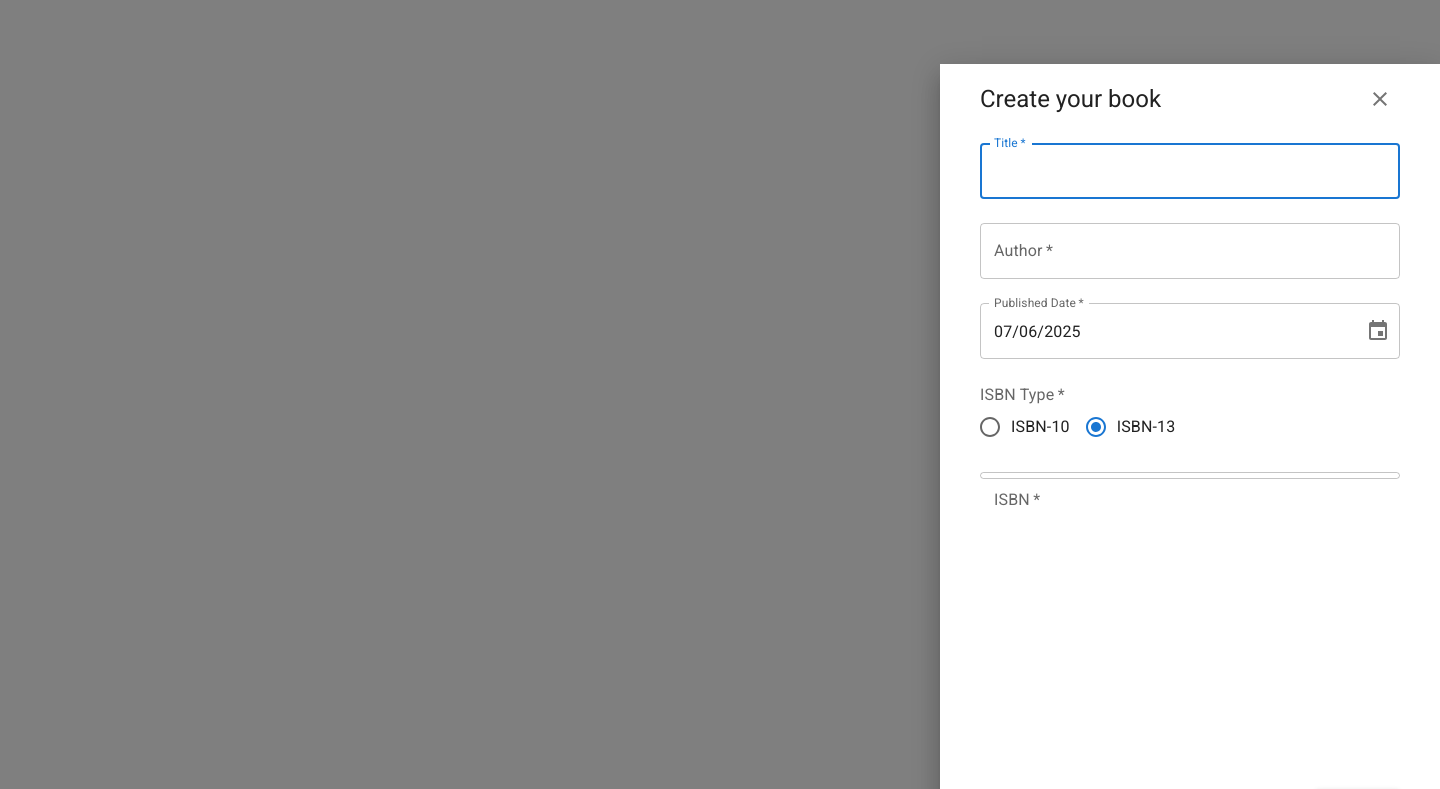
Scenario: AddBook › shows validation error for Elon Musks children
Type "A1" into the field with test id "author-input". click: (1190, 251)
box: [980,223,1400,279]
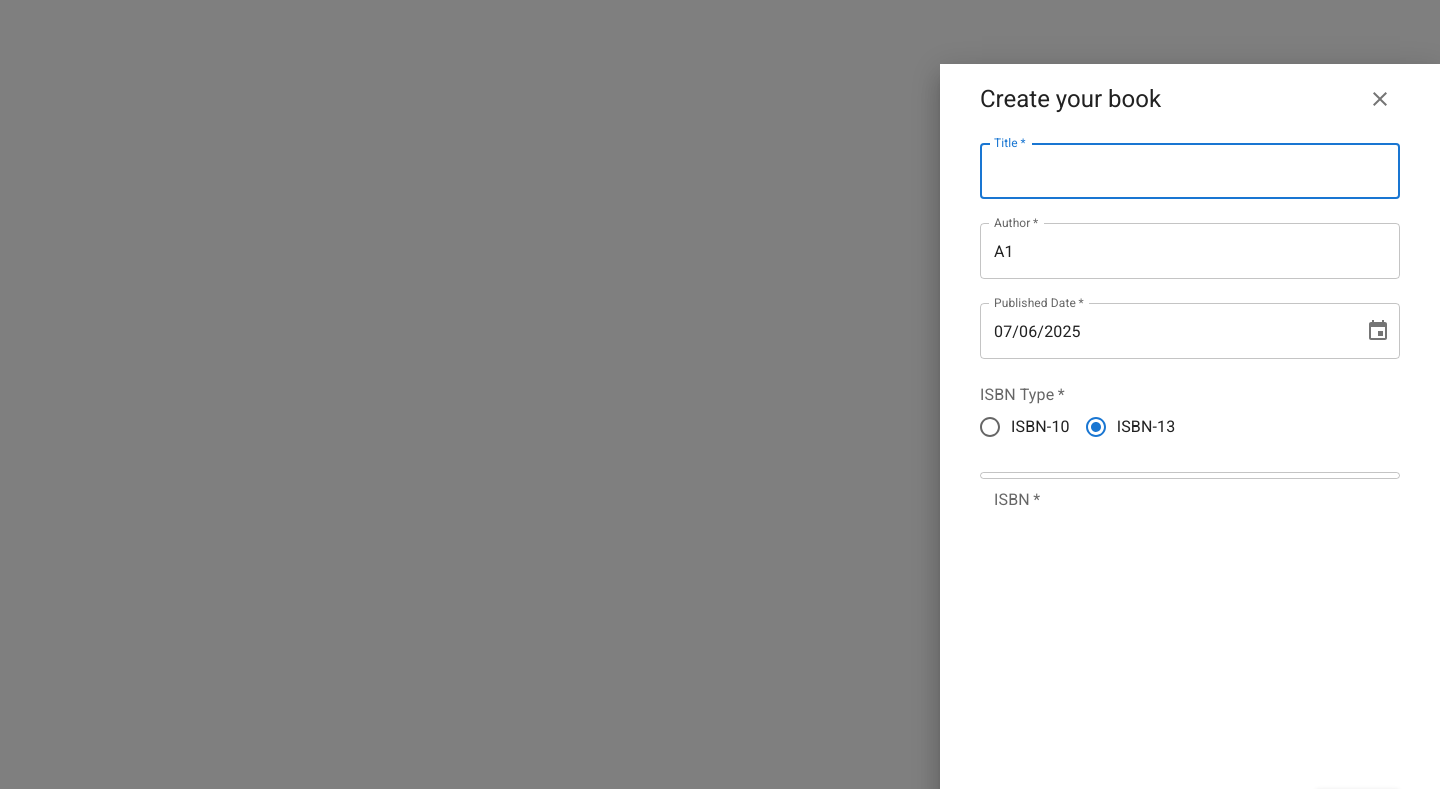
Leave the field with test id "author-input", box [980,223,1400,279]
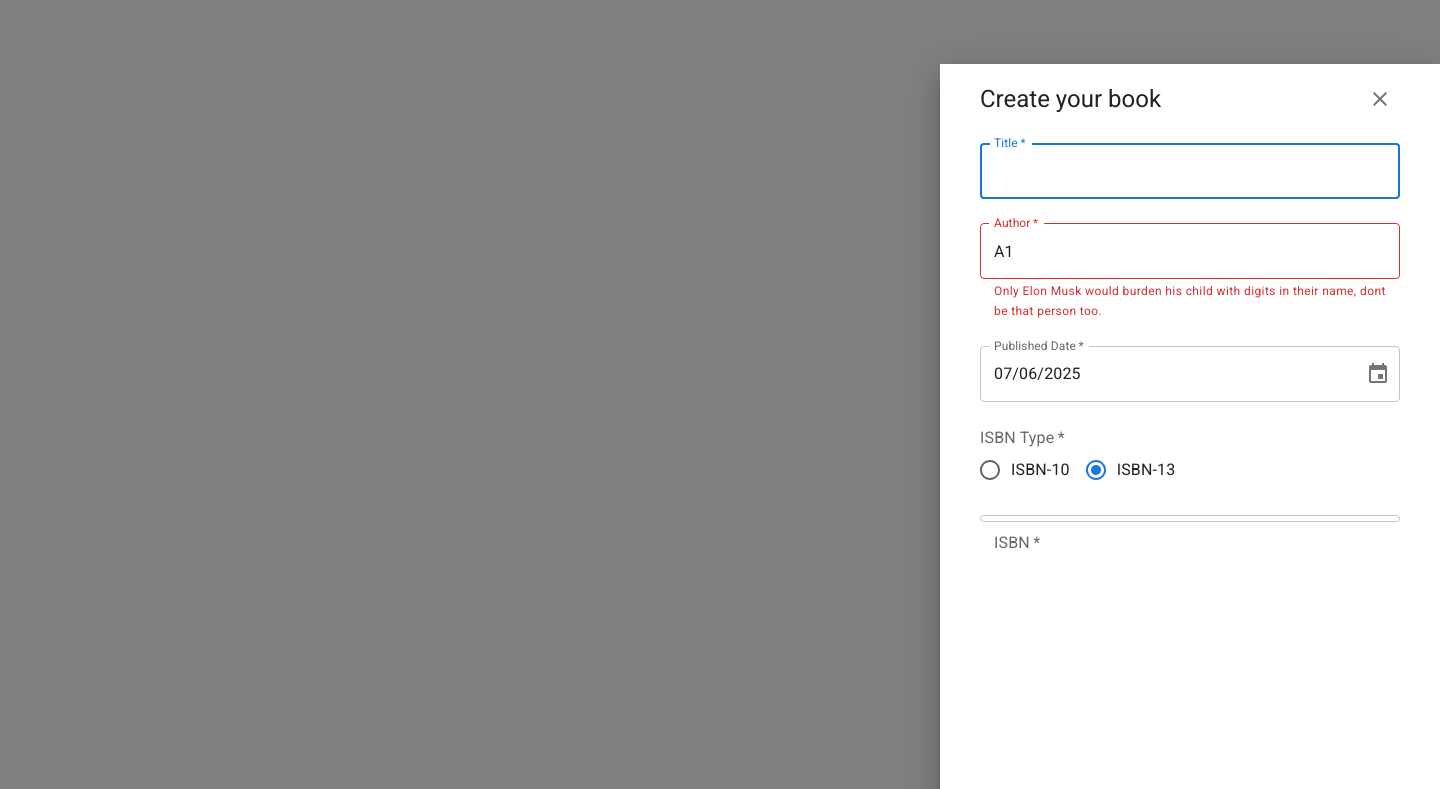
Expected: the text "Only Elon Musk would burden his child with digits in their name, dont be that person too." is shown, [994,284,1386,318]
